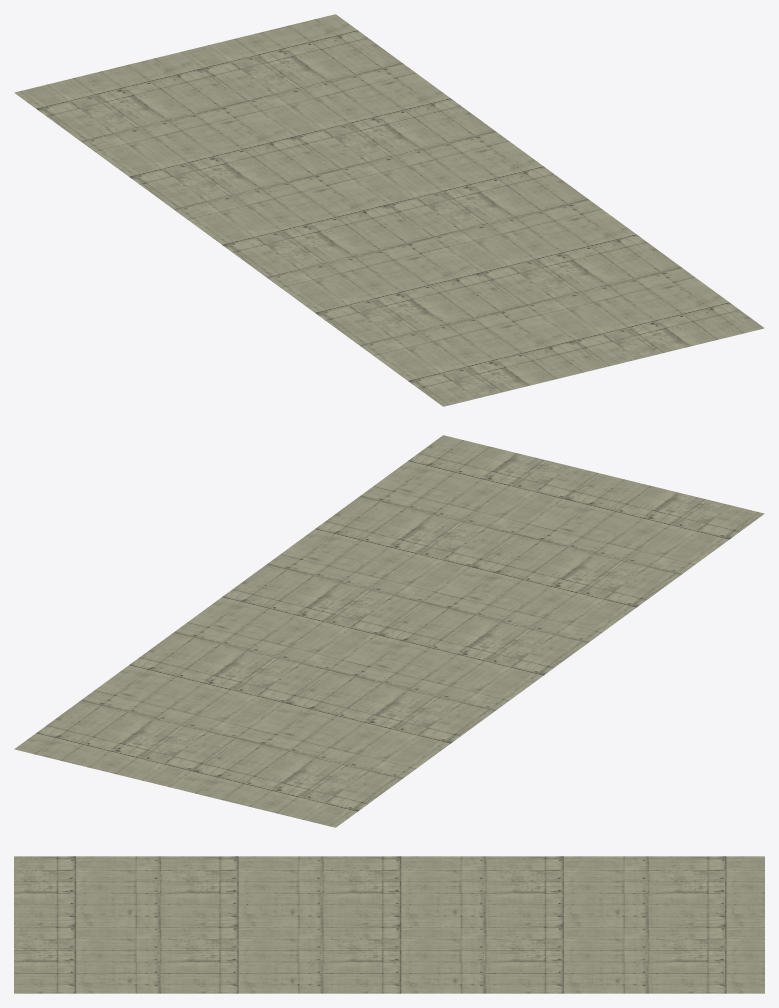
Rendered from SM_NeoLD_00_Block_03.fbx.
The picture shows the model from 3 angles, top to bottom: view 1: azimuth 30°, elevation 25°; view 2: azimuth 150°, elevation 25°; view 3: azimuth 270°, elevation 25°; orthographic projection. The views are drawn at different scales.
Visible parts, largest first — view 1: SM_NeoLD_00_Block_03; view 2: SM_NeoLD_00_Block_03; view 3: SM_NeoLD_00_Block_03.
Part boxes in pixels (left/top/right/bottom): SM_NeoLD_00_Block_03: left=14, top=14, right=764, bottom=406; SM_NeoLD_00_Block_03: left=14, top=435, right=764, bottom=827; SM_NeoLD_00_Block_03: left=14, top=856, right=764, bottom=993.
Bounding box in the file's own units: 1233 × 0 × 2849.
